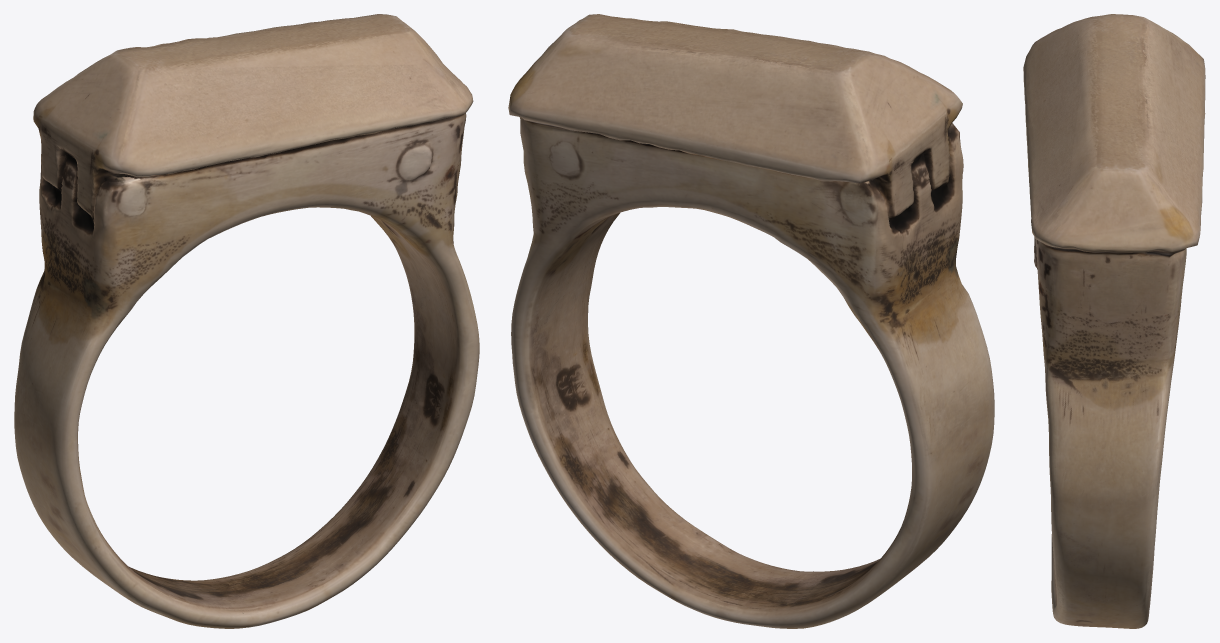
The model's file is ring4.glb.
3 views of the same model, side by side, from view 1: azimuth 30°, elevation 25°; view 2: azimuth 150°, elevation 25°; view 3: azimuth 270°, elevation 25° (orthographic). The views are drawn at different scales.
Parts seen in each view (by area): view 1: Pierscien_z_trumna_i_powstancem_11K_edit02w_2; view 2: Pierscien_z_trumna_i_powstancem_11K_edit02w_2; view 3: Pierscien_z_trumna_i_powstancem_11K_edit02w_2.
Part boxes in pixels (bbox=[...]): Pierscien_z_trumna_i_powstancem_11K_edit02w_2: bbox=[14, 14, 479, 628]; Pierscien_z_trumna_i_powstancem_11K_edit02w_2: bbox=[508, 14, 994, 628]; Pierscien_z_trumna_i_powstancem_11K_edit02w_2: bbox=[1023, 14, 1205, 628].
Bounding box in the file's own units: 24.13 × 30.76 × 9.43.
1 material, 1 textured.
